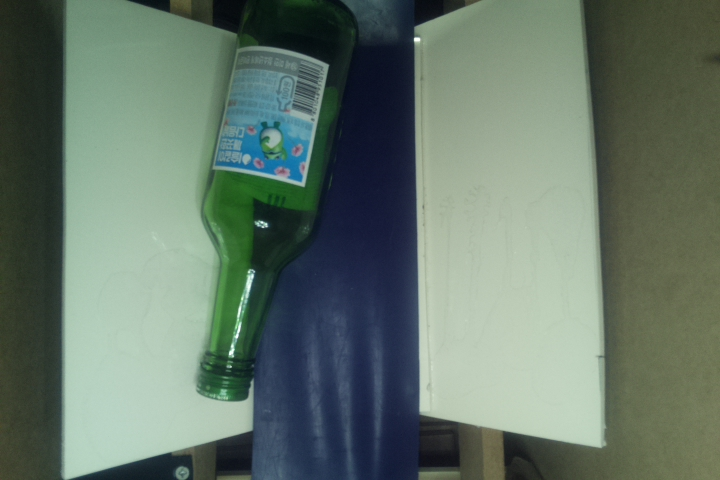soju: (193, 1, 360, 406)
